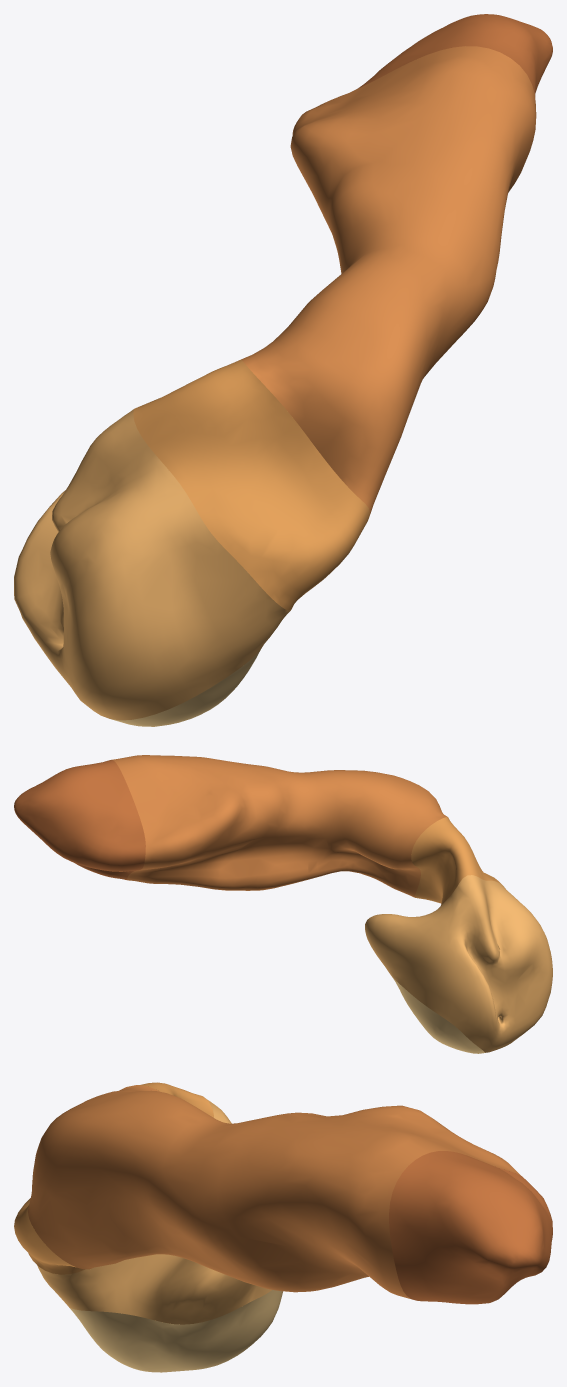
The model's file is pancreas.glb.
The picture shows the model from 3 angles, top to bottom: view 1: azimuth 30°, elevation 25°; view 2: azimuth 150°, elevation 25°; view 3: azimuth 270°, elevation 25°; orthographic projection. The views are drawn at different scales.
Parts seen in each view (by area): view 1: VH_M_body_of_pancreas, VH_M_head_of_pancreas, VH_M_neck_of_pancreas, VH_M_tail_of_pancreas, VH_M_uncinate_process_of_the_pancreas; view 2: VH_M_body_of_pancreas, VH_M_head_of_pancreas, VH_M_tail_of_pancreas, VH_M_neck_of_pancreas, VH_M_uncinate_process_of_the_pancreas; view 3: VH_M_body_of_pancreas, VH_M_tail_of_pancreas, VH_M_head_of_pancreas, VH_M_uncinate_process_of_the_pancreas, VH_M_neck_of_pancreas.
Part boxes in pixels (left/top/right/bottom): VH_M_body_of_pancreas: left=241, top=46, right=536, bottom=516; VH_M_head_of_pancreas: left=14, top=409, right=290, bottom=720; VH_M_neck_of_pancreas: left=133, top=359, right=369, bottom=610; VH_M_tail_of_pancreas: left=334, top=14, right=552, bottom=98; VH_M_uncinate_process_of_the_pancreas: left=111, top=646, right=262, bottom=726; VH_M_body_of_pancreas: left=112, top=755, right=447, bottom=897; VH_M_head_of_pancreas: left=365, top=875, right=552, bottom=1052; VH_M_tail_of_pancreas: left=14, top=759, right=145, bottom=879; VH_M_neck_of_pancreas: left=411, top=817, right=502, bottom=905; VH_M_uncinate_process_of_the_pancreas: left=392, top=977, right=485, bottom=1053; VH_M_body_of_pancreas: left=28, top=1085, right=520, bottom=1299; VH_M_tail_of_pancreas: left=389, top=1151, right=552, bottom=1304; VH_M_head_of_pancreas: left=37, top=1096, right=271, bottom=1324; VH_M_uncinate_process_of_the_pancreas: left=70, top=1290, right=282, bottom=1372; VH_M_neck_of_pancreas: left=14, top=1082, right=213, bottom=1274.
Bounding box in the file's own units: 0.1115 × 0.072 × 0.0836.
